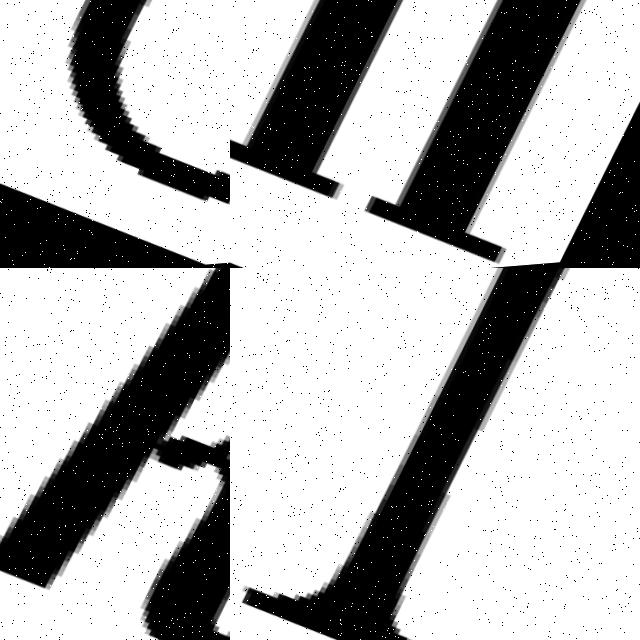1: (232, 268, 640, 640)
8: (14, 0, 230, 268)
K: (0, 268, 230, 640)
M: (230, 0, 640, 268)
